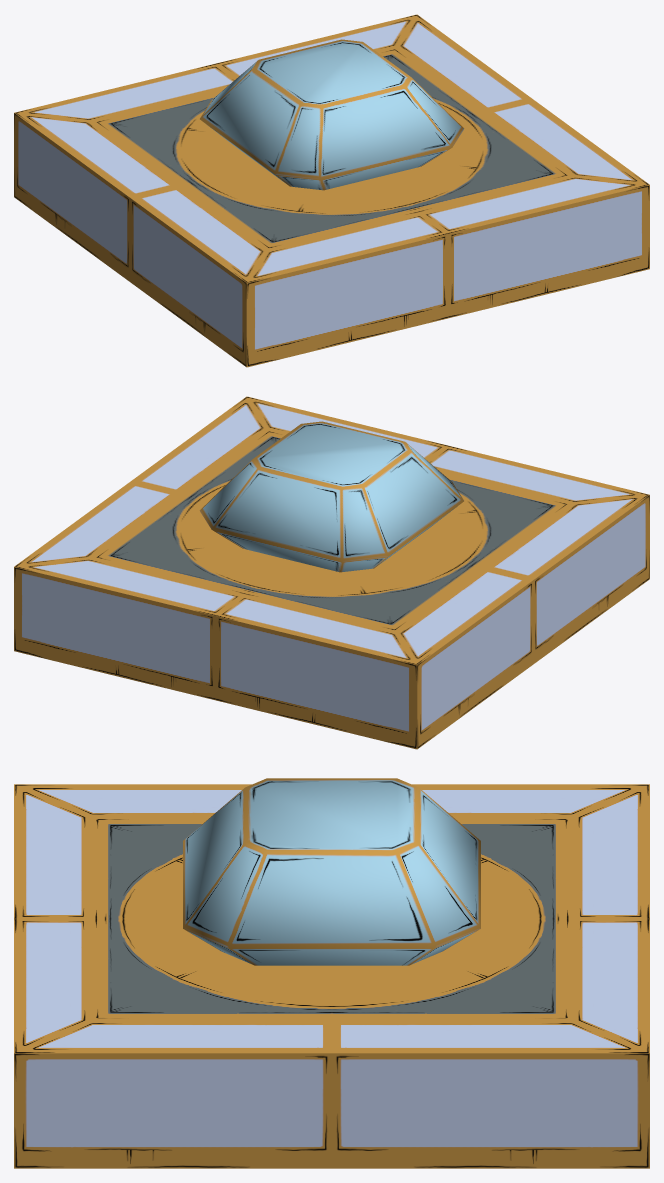
File: diamond_display.fbx
3 renders of one model, top to bottom at view 1: azimuth 30°, elevation 25°; view 2: azimuth 150°, elevation 25°; view 3: azimuth 270°, elevation 25°, orthographic. The views are drawn at different scales.
Parts seen in each view (by area): view 1: diamond_display_square, diamond_display_diamond; view 2: diamond_display_square, diamond_display_diamond; view 3: diamond_display_square, diamond_display_diamond.
Boxes of the visible parts, left/top/right/bottom form: diamond_display_square: left=14, top=14, right=649, bottom=367; diamond_display_diamond: left=200, top=39, right=464, bottom=190; diamond_display_square: left=14, top=396, right=649, bottom=749; diamond_display_diamond: left=199, top=421, right=463, bottom=572; diamond_display_square: left=14, top=784, right=649, bottom=1168; diamond_display_diamond: left=183, top=778, right=480, bottom=965.
Size of the model in its own units: 4 by 1.52 by 4.
